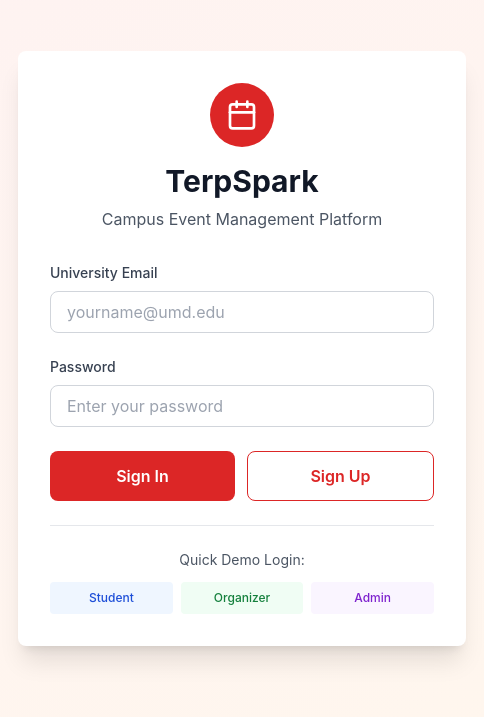
Test case: LoginPage › shows error for invalid email domain
Type "user@gmail.com" into the field labelled "University Email".
click(242, 312); type("user@gmail.com")  # box [50,290,434,332]
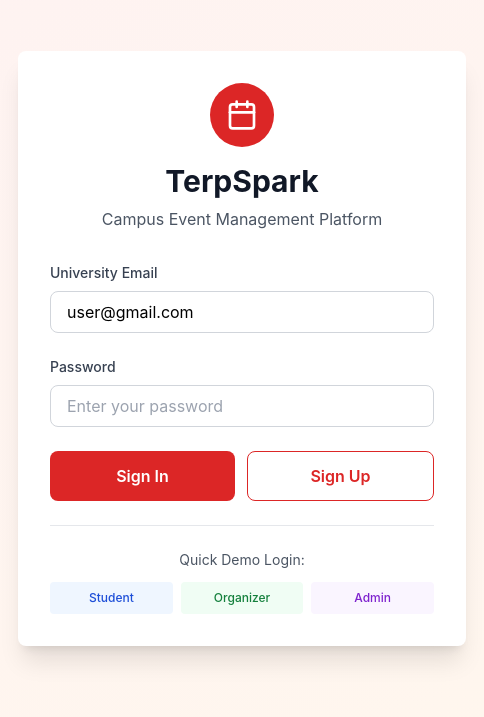
Type "password" into the password field labelled "Password".
click(242, 406); type("password")  # box [50,384,434,426]
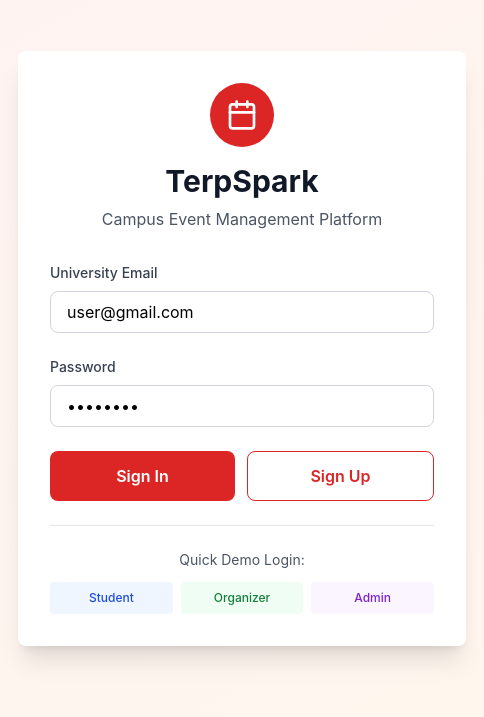
Click the button "Sign In".
click(142, 476)  # box [50,450,235,500]
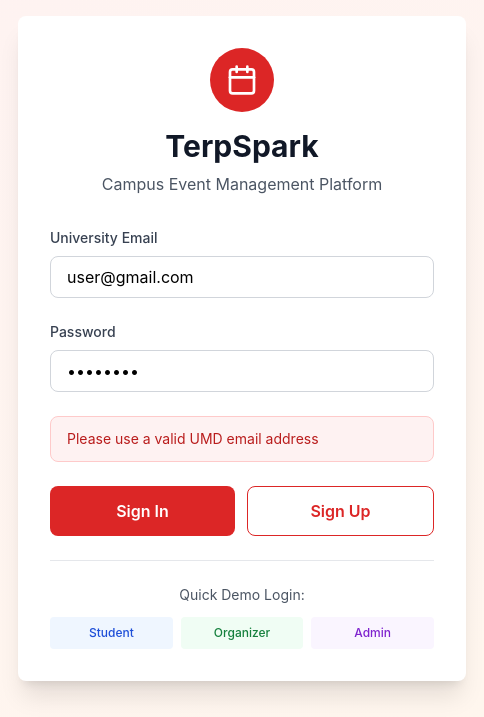
Result: the text "Please use a valid UMD email address" is shown at [50,416,434,462]
